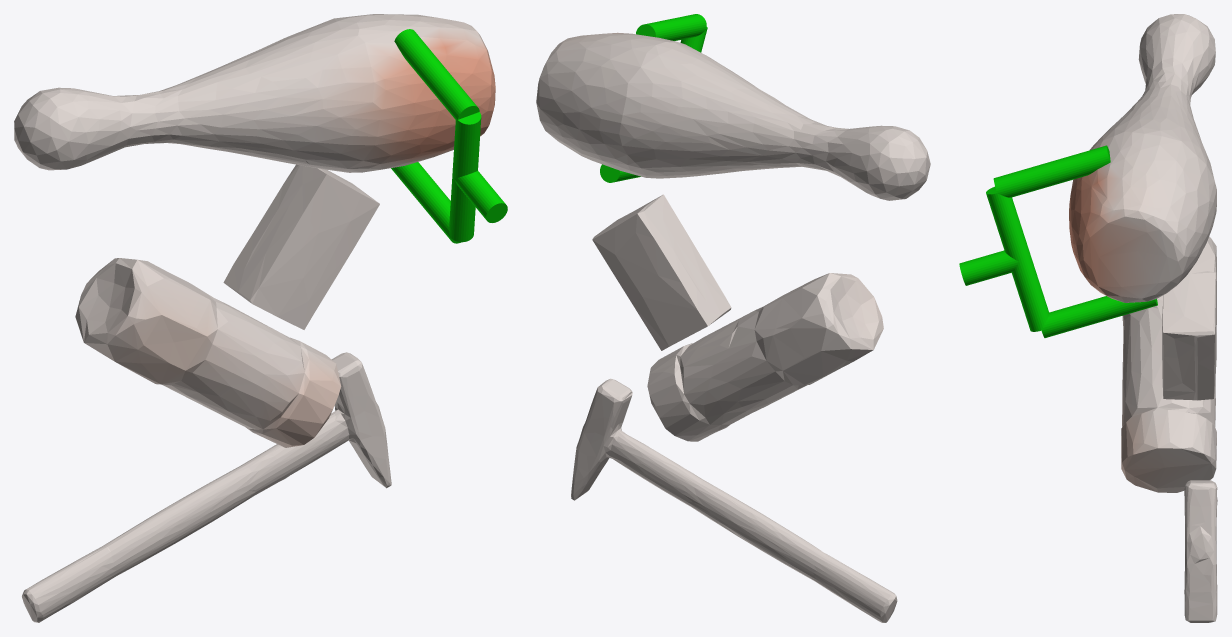
Rendered from round_000_trial_001.obj.
The picture shows the model from 3 angles, left to right: view 1: azimuth 30°, elevation 25°; view 2: azimuth 150°, elevation 25°; view 3: azimuth 270°, elevation 25°; orthographic projection. The views are drawn at different scales.
Visible parts, largest first — view 1: geometry_0, geometry_1; view 2: geometry_0, geometry_1; view 3: geometry_0, geometry_1.
Part boxes in pixels (x1=…): geometry_0: x1=14, y1=14, x2=495, y2=622; geometry_1: x1=391, y1=29, x2=507, y2=243; geometry_0: x1=536, y1=32, x2=930, y2=622; geometry_1: x1=600, y1=14, x2=707, y2=182; geometry_0: x1=1069, y1=14, x2=1217, y2=622; geometry_1: x1=959, y1=145, x2=1157, y2=337.
Bounding box in the file's own units: 0.1996 × 0.2417 × 0.1093.
